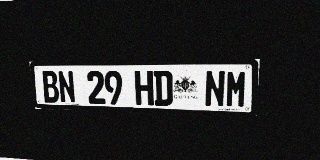2: (86, 71, 106, 104)
9: (104, 71, 123, 105)
B: (41, 71, 60, 103)
D: (153, 70, 173, 106)
H: (134, 70, 154, 105)
M: (225, 70, 248, 108)
N: (204, 70, 226, 107), (57, 71, 76, 103)
